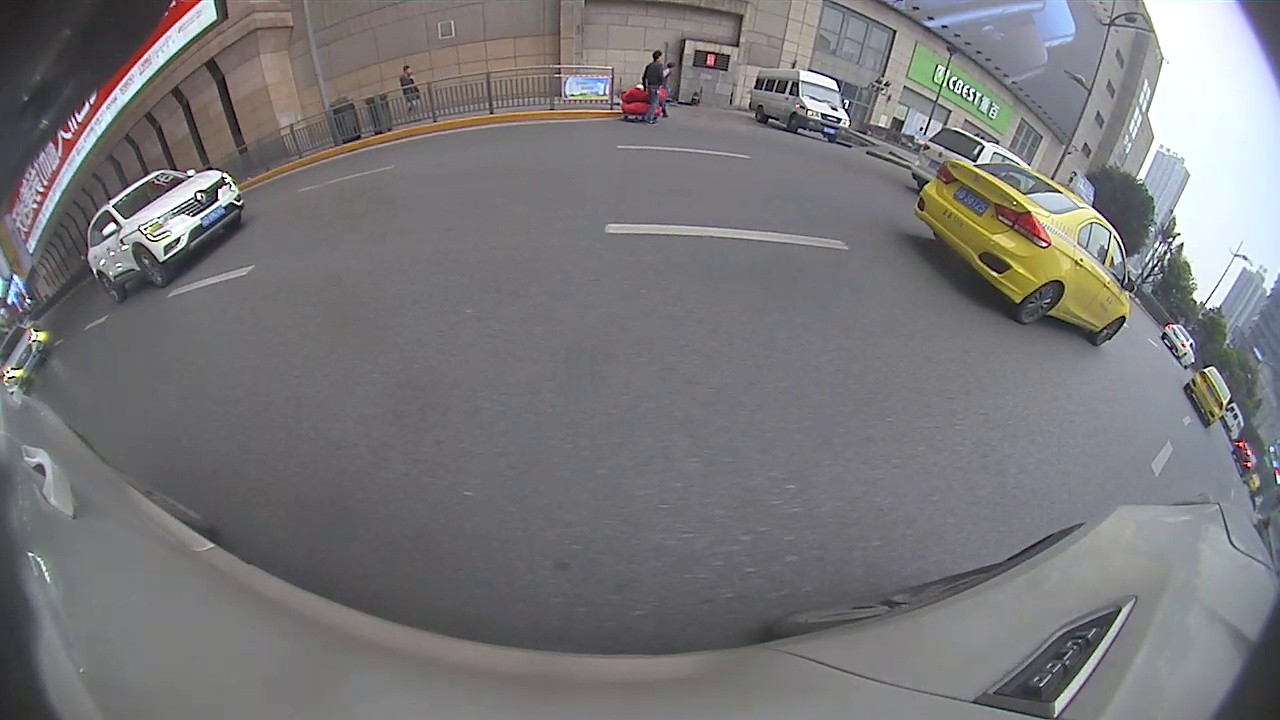car: (913, 156, 1138, 348), (85, 168, 246, 305), (749, 67, 849, 140), (1184, 361, 1233, 430), (2, 323, 52, 388), (641, 49, 667, 124), (1160, 320, 1198, 367)
front: (133, 244, 169, 289), (1090, 317, 1126, 347), (786, 111, 800, 133)
rear: (1015, 284, 1063, 326), (98, 271, 124, 306), (754, 105, 764, 122)
